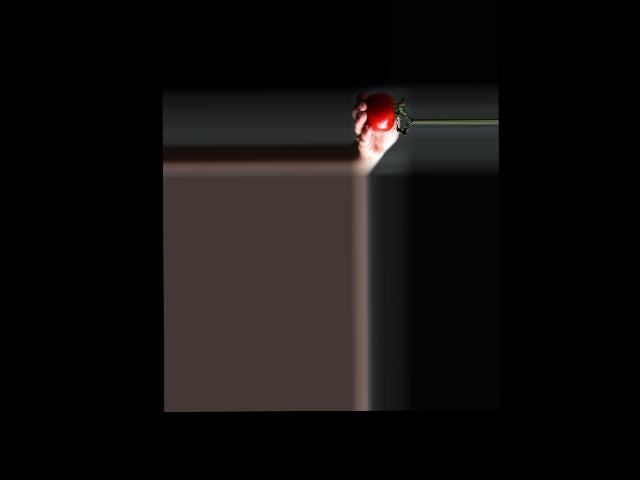tomato: (364, 92, 396, 132)
